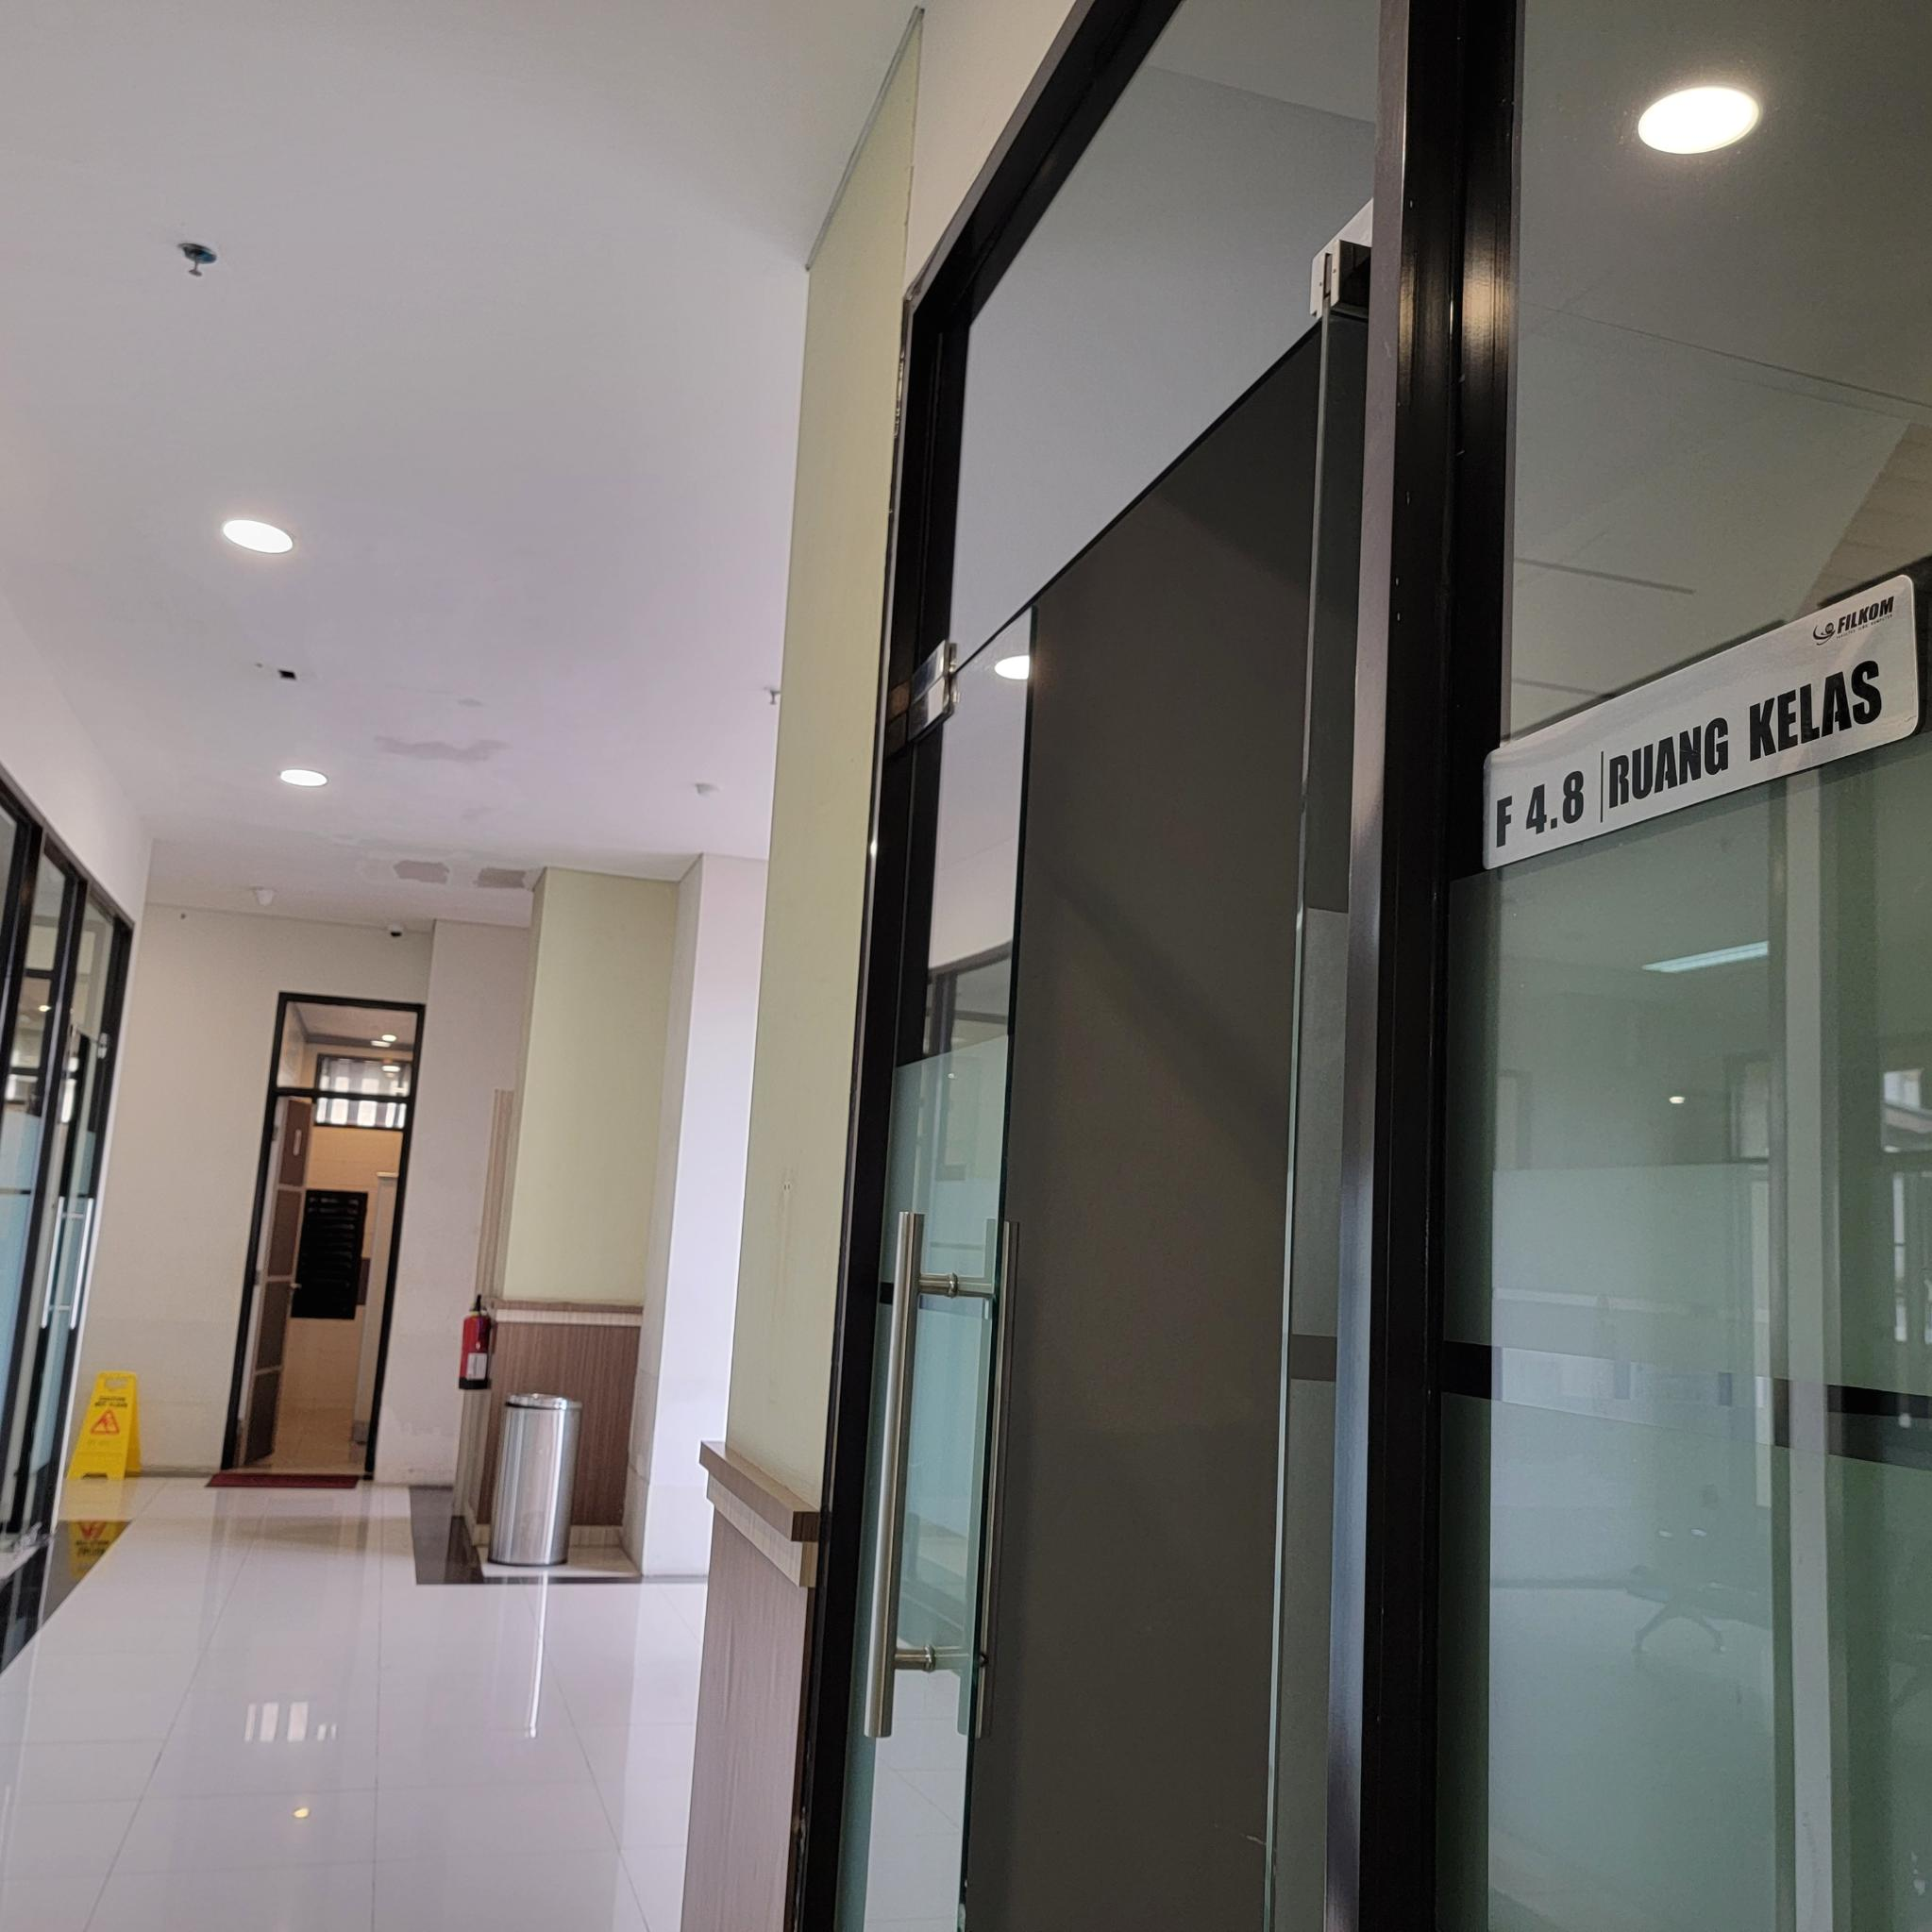plate: (1481, 575, 1921, 872)
